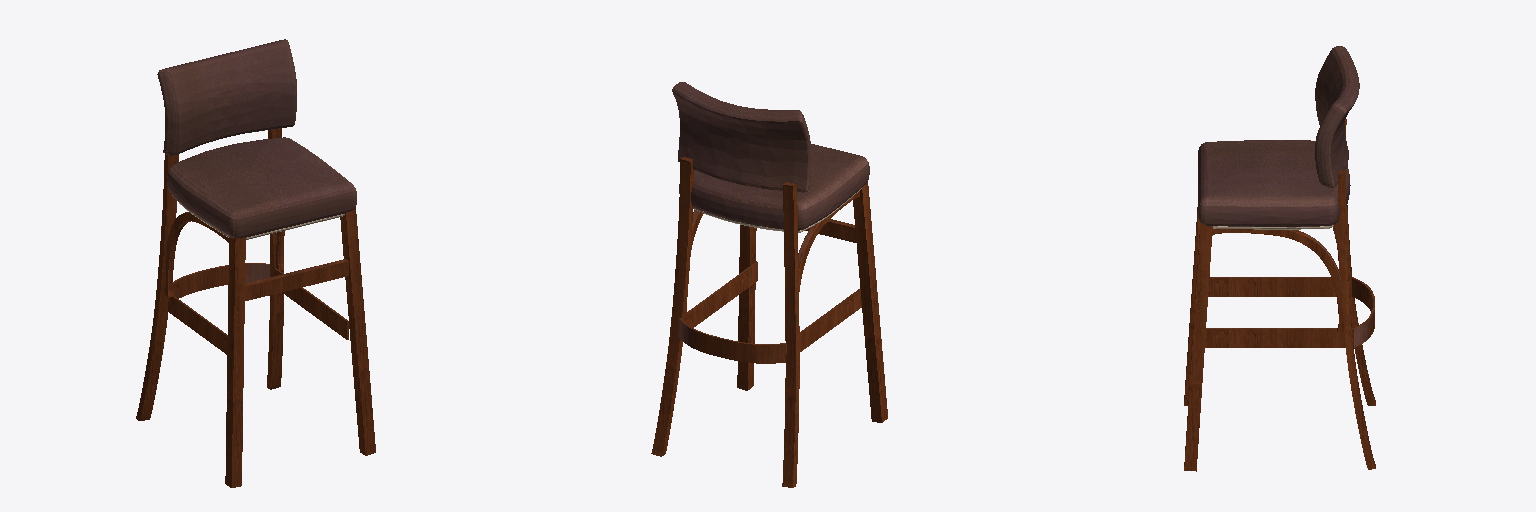
3 views of the same model, side by side, from view 1: azimuth 30°, elevation 25°; view 2: azimuth 150°, elevation 25°; view 3: azimuth 270°, elevation 25° (orthographic).
Parts seen in each view (by area): view 1: solid_003, solid_002; view 2: solid_002, solid_003; view 3: solid_003, solid_002.
Boxes of the visible parts, <box> form: solid_003: <box>157,39,356,238</box>; solid_002: <box>136,128,375,487</box>; solid_002: <box>651,157,887,487</box>; solid_003: <box>672,82,869,230</box>; solid_003: <box>1198,46,1359,226</box>; solid_002: <box>1184,119,1375,471</box>.
Bounding box in the file's own units: 0.6756 × 1.61 × 0.775.
Materials: 1 (1 with a texture image).